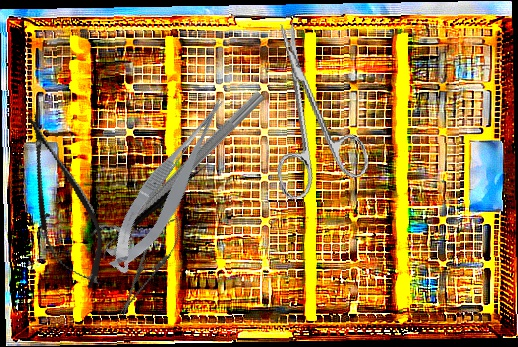Fixation Ring: (87, 76, 271, 260)
Iris Scissors: (245, 11, 373, 202)
Micro Scissor: (91, 92, 249, 279), (3, 104, 119, 298)
Needle Holder: (109, 209, 190, 322)
Spatula Surgical: (102, 130, 214, 281)
